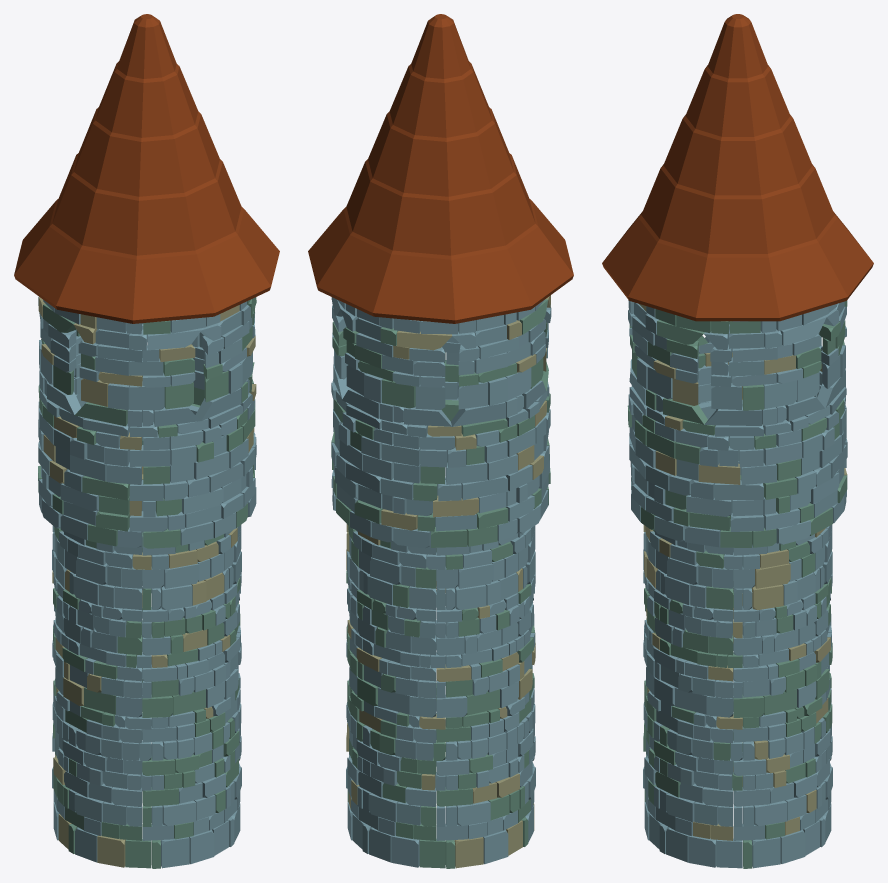
File: Tower.fbx
3 views of the same model, side by side, from view 1: azimuth 30°, elevation 25°; view 2: azimuth 150°, elevation 25°; view 3: azimuth 270°, elevation 25° (orthographic).
Visible parts, largest first — view 1: Tower; view 2: Tower; view 3: Tower.
Boxes of the visible parts, left/top/right/bottom form: Tower: left=14, top=14, right=279, bottom=868; Tower: left=308, top=14, right=573, bottom=868; Tower: left=602, top=14, right=873, bottom=868.
Bounding box in the file's own units: 6231 × 21605 × 6551.
